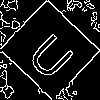U: (24, 24, 83, 83)
